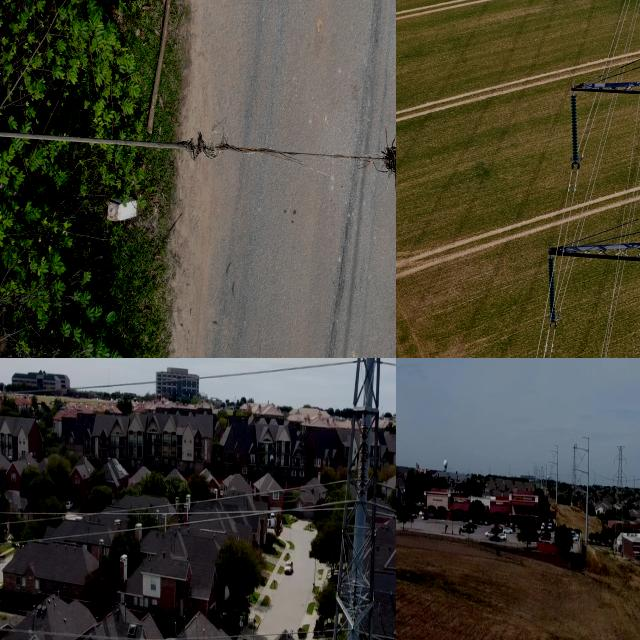杆塔: (327, 358, 390, 640), (610, 440, 630, 560), (569, 439, 580, 510)
正常电缆: (575, 94, 619, 244), (572, 94, 615, 244), (620, 92, 640, 225), (600, 260, 621, 358), (602, 0, 627, 74), (554, 167, 574, 255), (608, 0, 631, 71), (557, 258, 577, 319), (582, 93, 603, 151), (620, 0, 638, 66), (580, 92, 599, 147), (625, 0, 640, 64), (534, 295, 549, 358), (555, 257, 571, 310), (628, 152, 640, 222), (632, 176, 640, 221), (542, 323, 552, 358), (548, 328, 558, 358)
正常绝缘子: (356, 412, 371, 498), (571, 95, 582, 170), (548, 256, 557, 323), (624, 475, 628, 490), (612, 457, 617, 468), (611, 475, 615, 488), (624, 456, 628, 468)
电缆破损: (173, 116, 396, 189)
